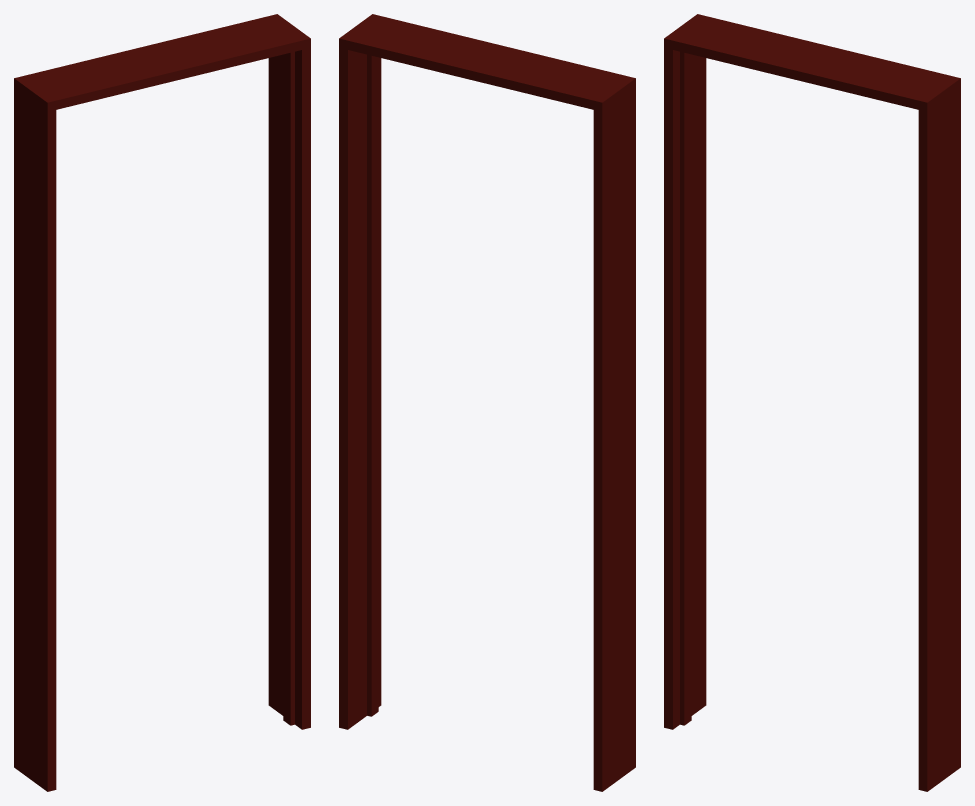
Rendered from SimpleDoor_Frame_01.fbx.
The picture shows the model from 3 angles, left to right: view 1: azimuth 30°, elevation 25°; view 2: azimuth 150°, elevation 25°; view 3: azimuth 330°, elevation 25°; orthographic projection.
Parts seen in each view (by area): view 1: DoorFrameSimple_01; view 2: DoorFrameSimple_01; view 3: DoorFrameSimple_01.
Boxes of the visible parts, left/top/right/bottom form: DoorFrameSimple_01: left=14, top=14, right=310, bottom=791; DoorFrameSimple_01: left=339, top=14, right=635, bottom=791; DoorFrameSimple_01: left=664, top=14, right=960, bottom=791.
Size of the model in its own units: 29.53 by 6.5 by 73.85.
